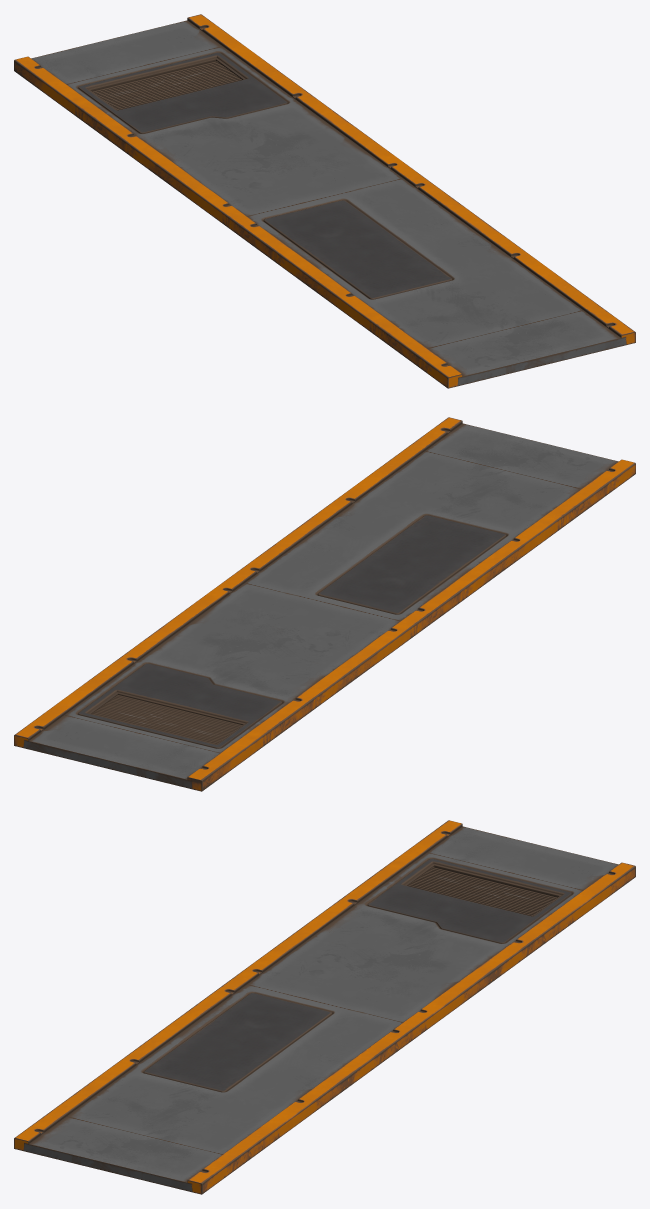
File: SM_RoomStyle_Floor04.fbx
The picture shows the model from 3 angles, top to bottom: view 1: azimuth 30°, elevation 25°; view 2: azimuth 150°, elevation 25°; view 3: azimuth 330°, elevation 25°; orthographic projection.
Parts seen in each view (by area): view 1: SM_RoomStyle_Floor04_LOD0; view 2: SM_RoomStyle_Floor04_LOD0; view 3: SM_RoomStyle_Floor04_LOD0.
Part boxes in pixels (x1,y1,x2,y2): SM_RoomStyle_Floor04_LOD0: (14,14,635,388); SM_RoomStyle_Floor04_LOD0: (14,417,635,791); SM_RoomStyle_Floor04_LOD0: (14,820,635,1194).
Bounding box in the file's own units: 130 × 520 × 7.34.
2 materials, 1 textured.
